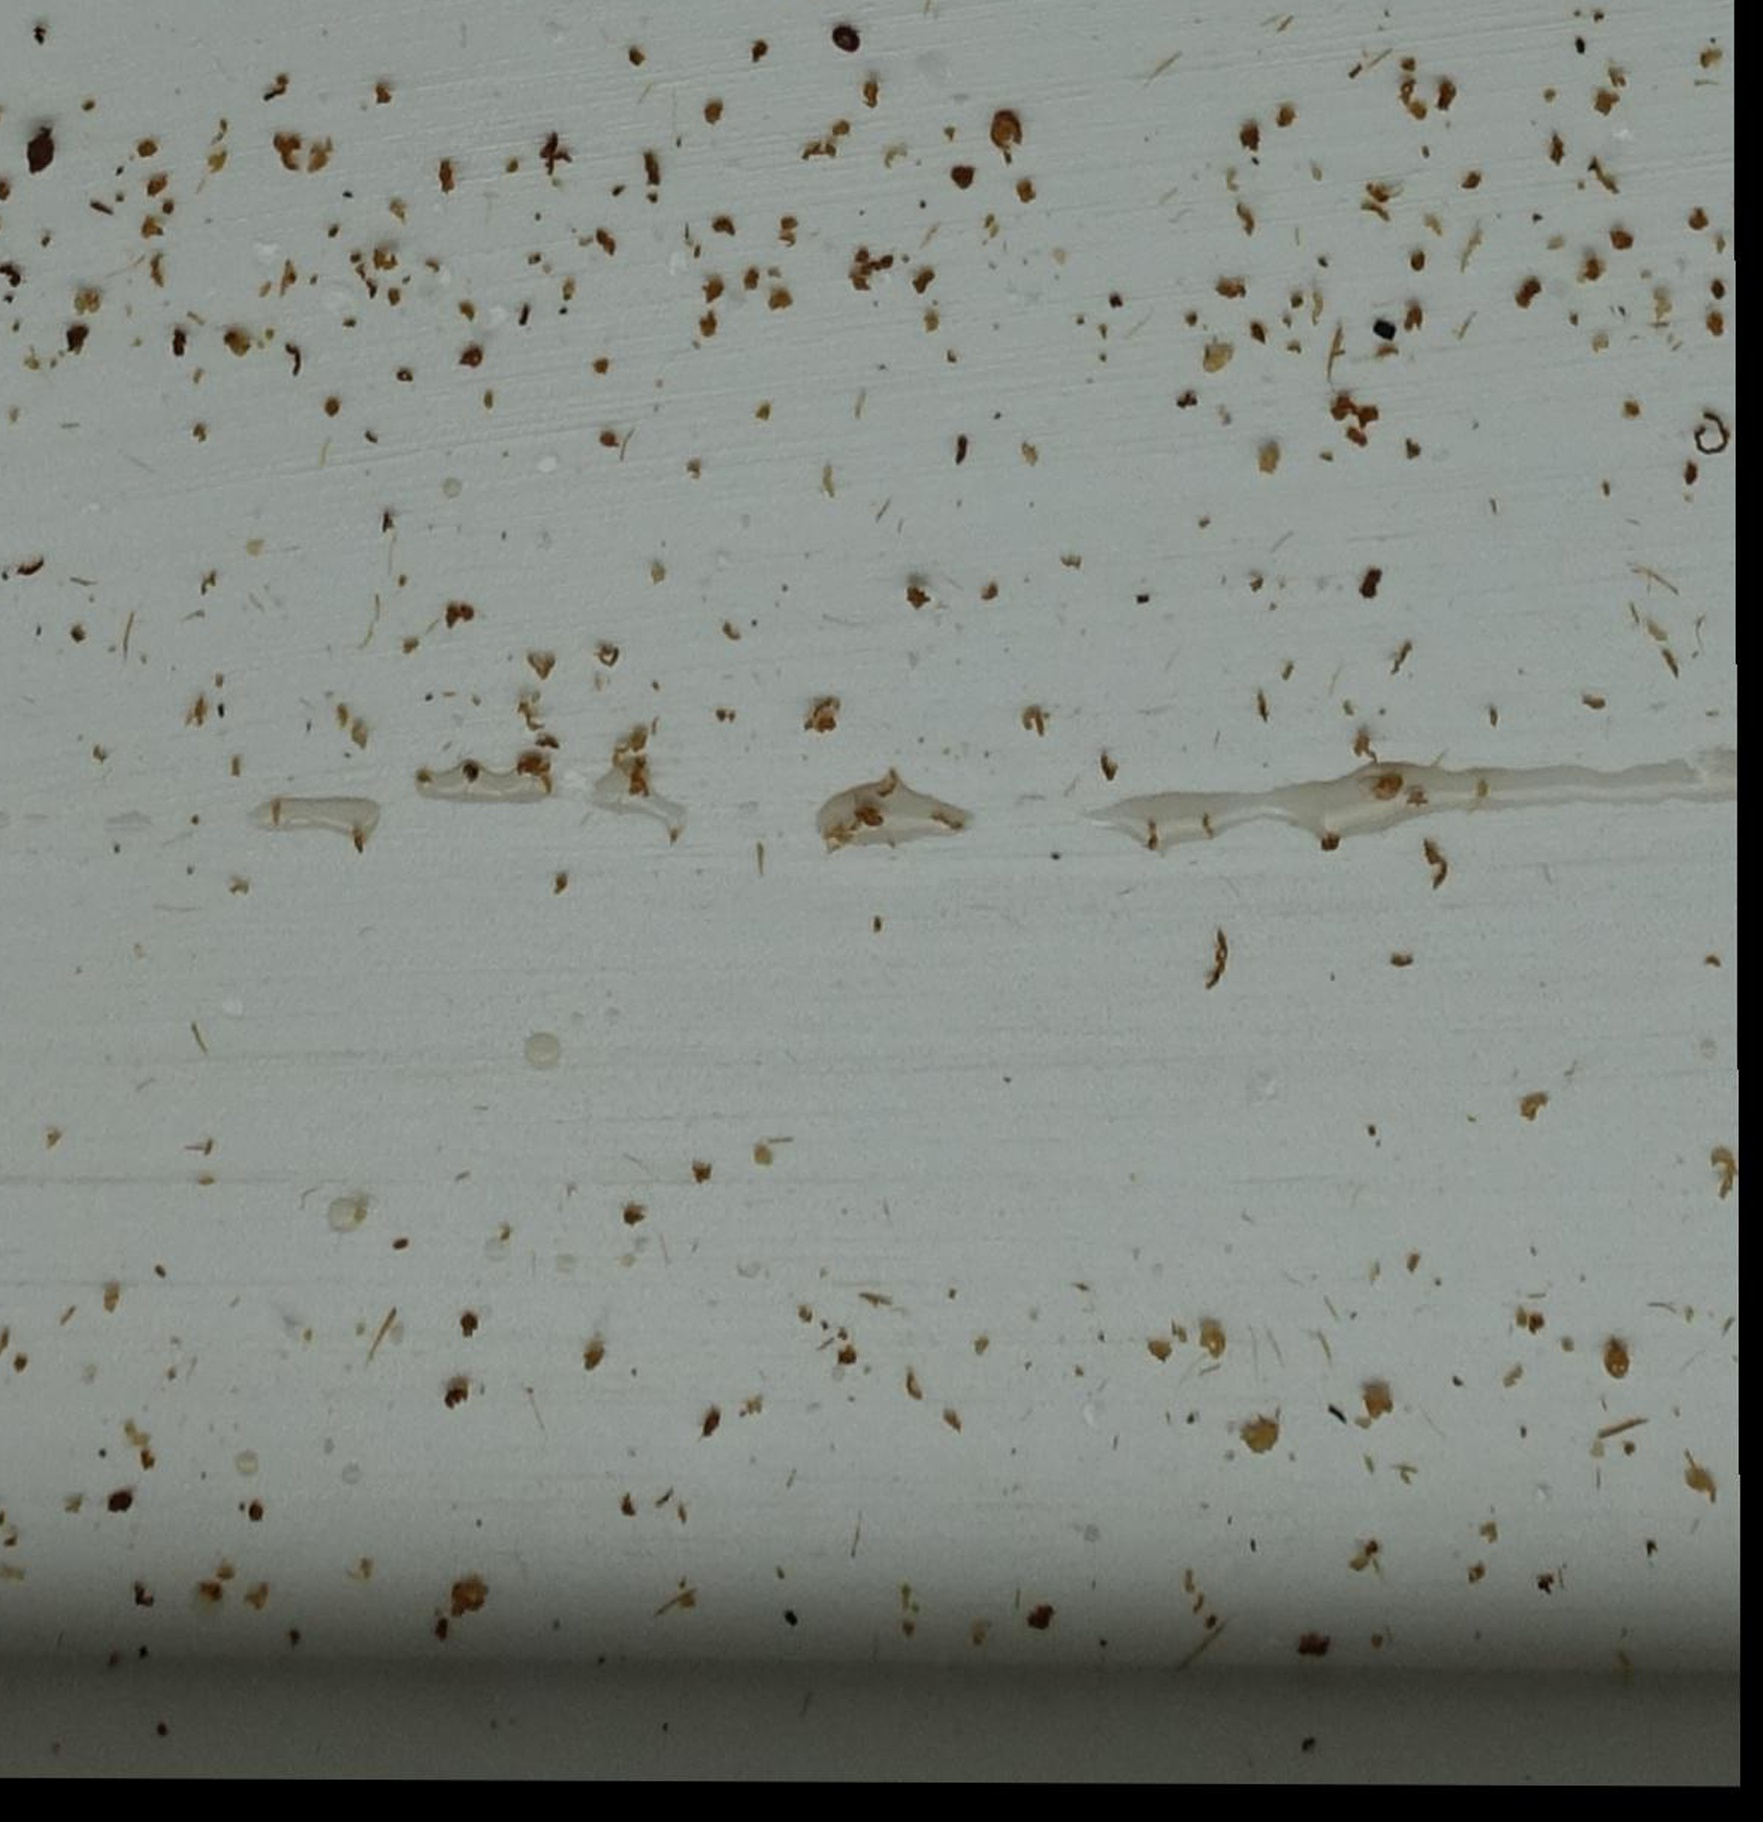Varroa: (829, 28, 859, 63)
